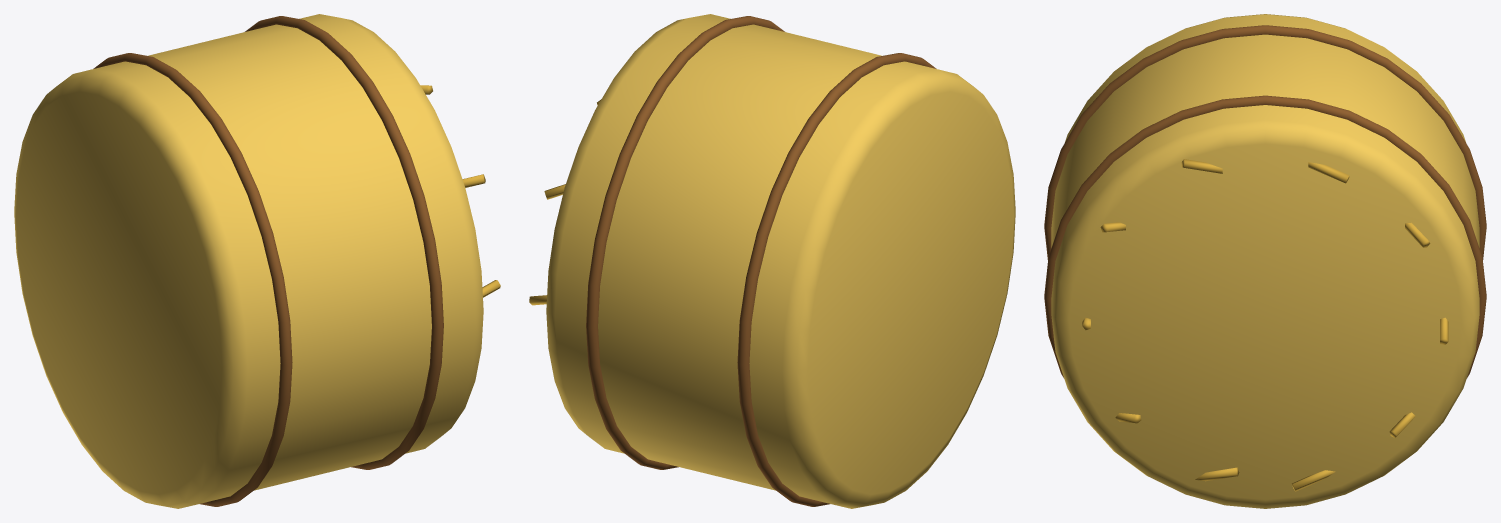
The model's file is jerami.glb.
3 views of the same model, side by side, from view 1: azimuth 30°, elevation 25°; view 2: azimuth 150°, elevation 25°; view 3: azimuth 270°, elevation 25° (orthographic). The views are drawn at different scales.
Parts seen in each view (by area): view 1: Cylinder, Torus.005, Torus.006; view 2: Cylinder, Torus.005, Torus.006; view 3: Cylinder, Torus.006, Torus.005.
Part boxes in pixels (x1,y1,x2,y2): Cylinder: (14, 14, 483, 508); Torus.005: (93, 53, 292, 506); Torus.006: (245, 16, 443, 469); Cylinder: (546, 14, 1015, 508); Torus.005: (737, 53, 936, 506); Torus.006: (586, 16, 784, 469); Cylinder: (1051, 14, 1479, 508); Torus.006: (1044, 95, 1486, 377); Torus.005: (1044, 25, 1486, 259).
Size of the model in its own units: 2.65 by 3.72 by 3.72.
